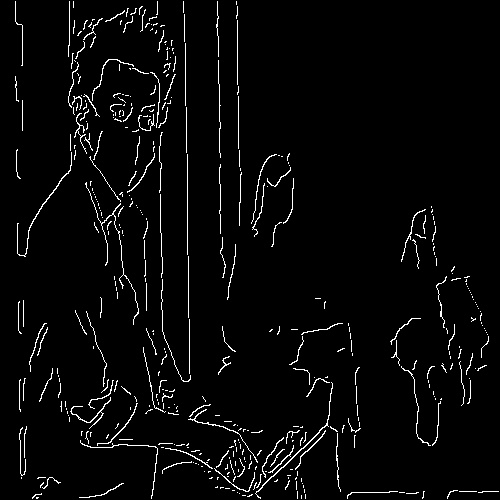mask: (102, 120, 163, 198)
